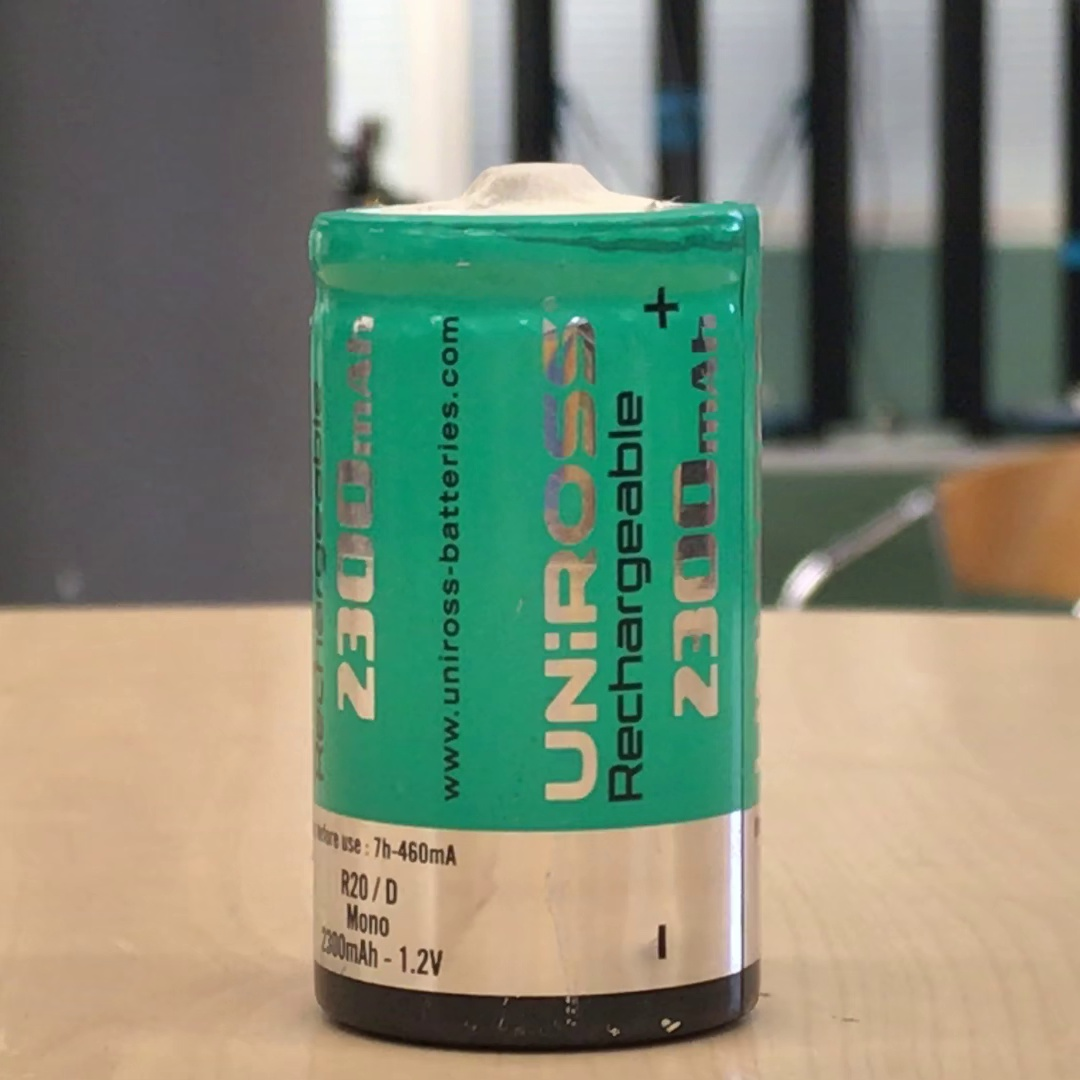keyword: (390, 940, 453, 982)
